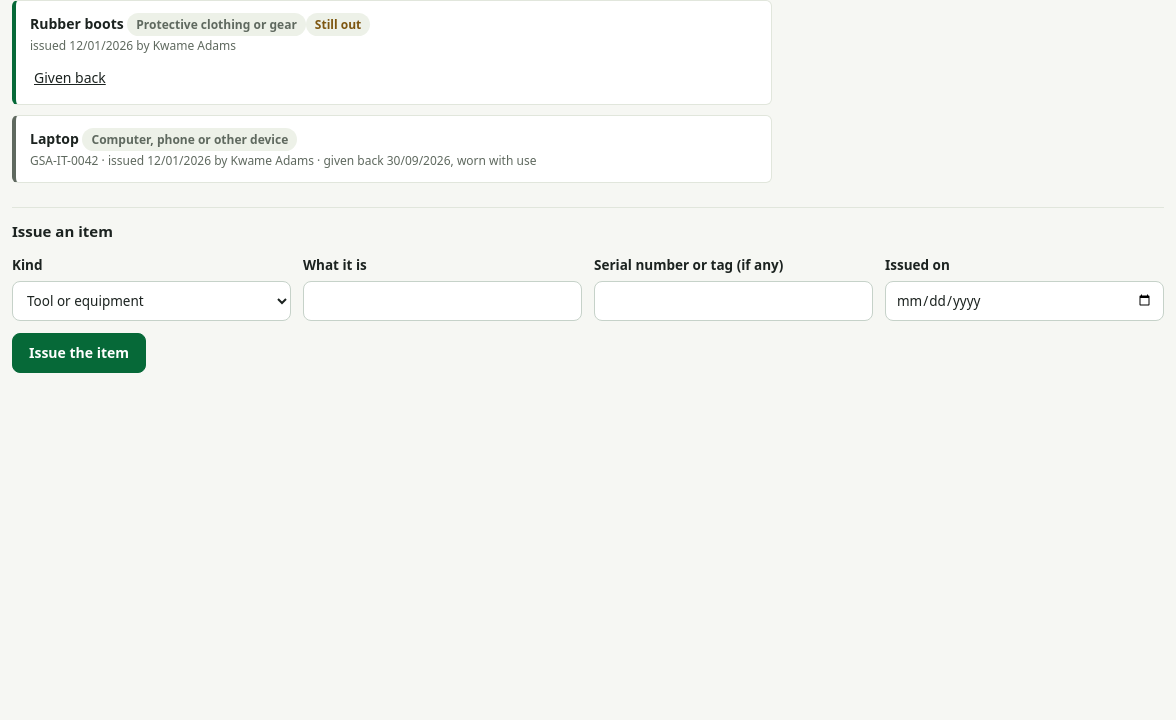
items issued › lists what is still out first, issues an item and records one given back
Expected: the text "Still out" is shown, [306, 13, 370, 36]
Expected: the text "GSA-IT-0042 · issued 12/01/2026 by Kwame Adams · given back 30/09/2026, worn with use" is shown, [30, 152, 536, 169]
Select "Key" in the dropdown labelled "Kind" at [152, 301], box [12, 281, 291, 321]
Type "Key to the store" into the field labelled "What it is" at [442, 301], box [303, 281, 582, 321]
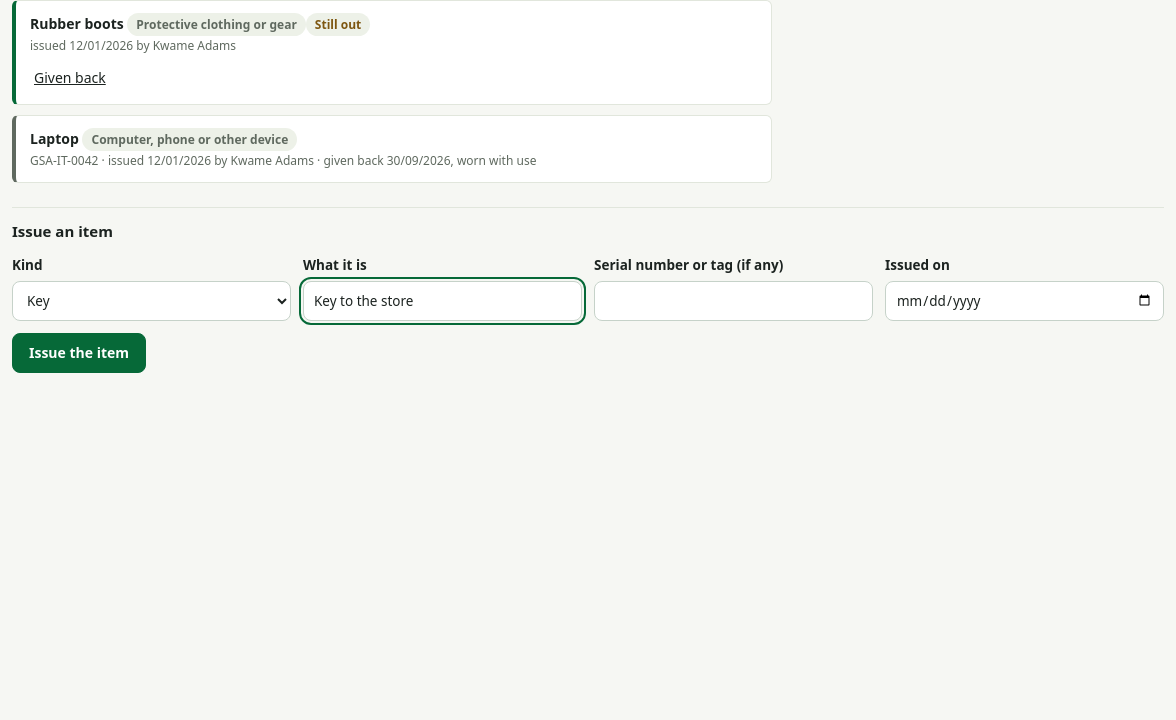
Type "2026-10-01" into the date field labelled "Issued on" at [1024, 301], box [885, 281, 1164, 321]
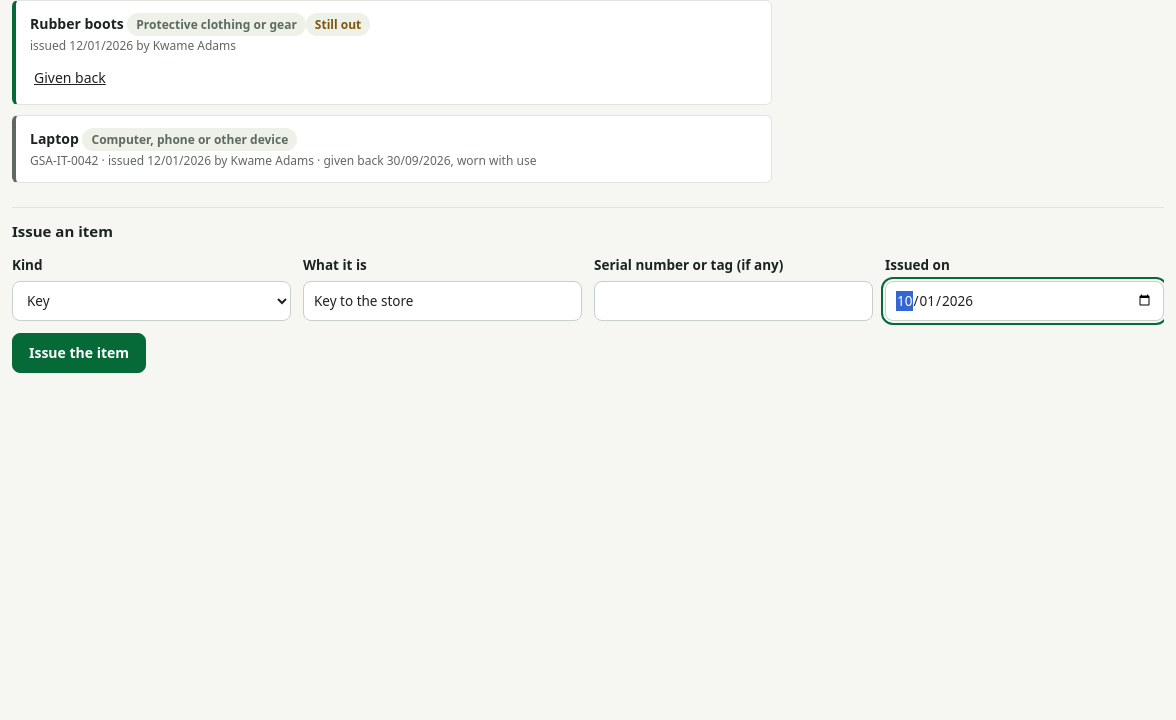
Click the button "Issue the item" at [79, 353], box [12, 333, 146, 373]
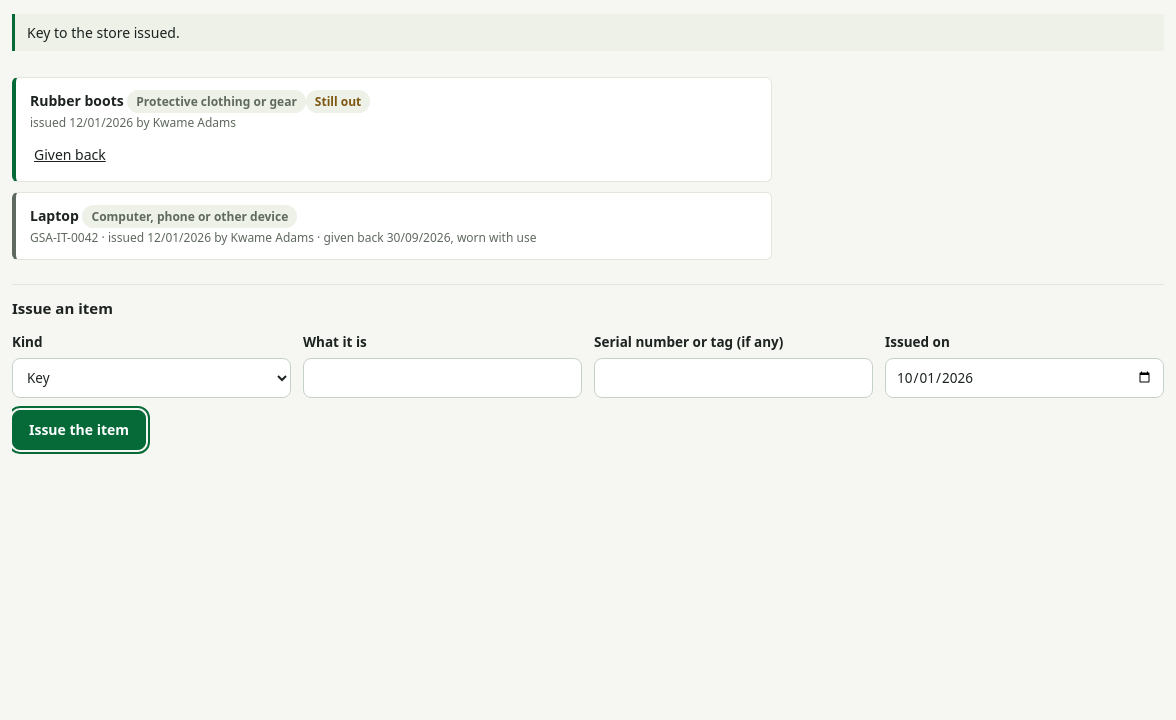
Expected: the message reads "Key to the store issued.", [27, 23, 180, 42]
Click the button with aria-label "Record Rubber boots as given back" at [70, 154], box [30, 140, 110, 169]
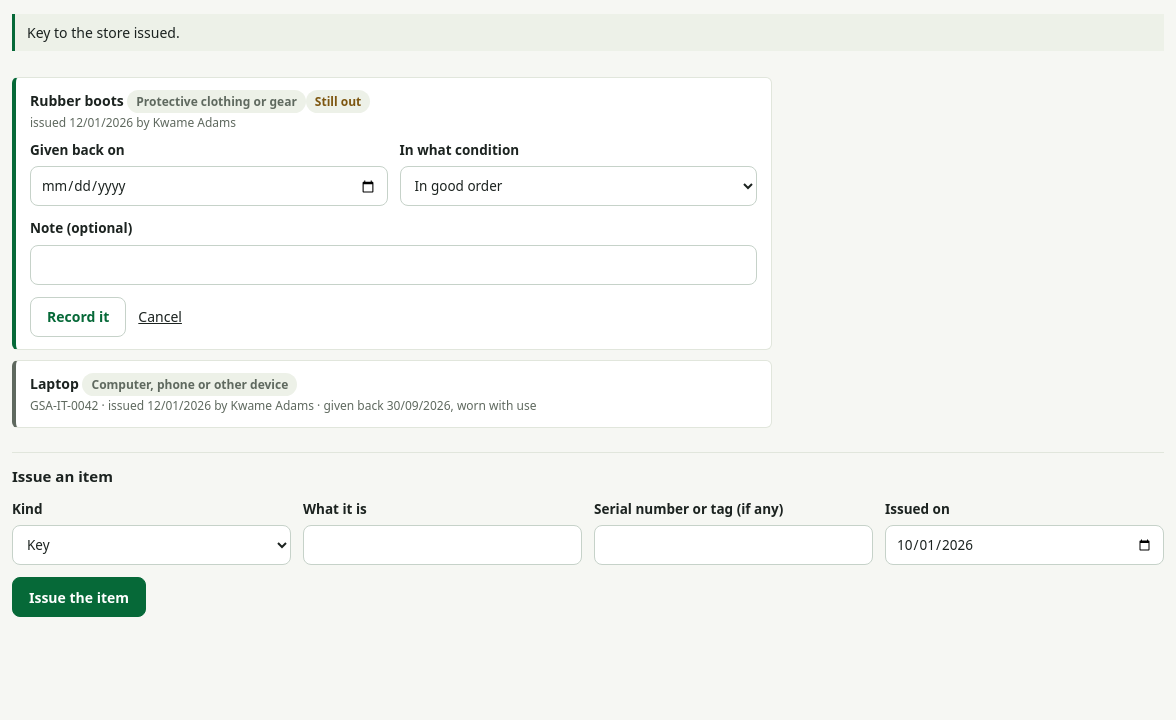
Type "2026-10-01" into the date field labelled "Given back on" at [209, 186], box [30, 166, 388, 206]
Select "Lost" in the dropdown labelled "In what condition" at [578, 186], box [400, 166, 757, 206]
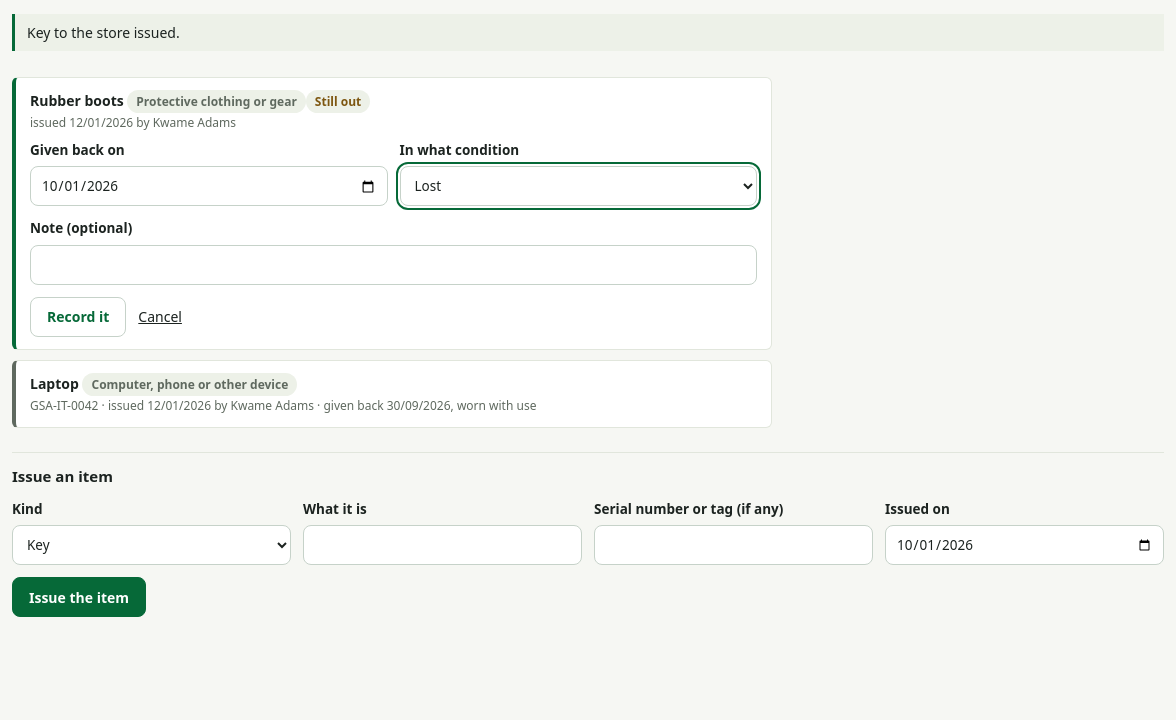
Click the button "Record it" at [78, 316], box [30, 296, 126, 336]
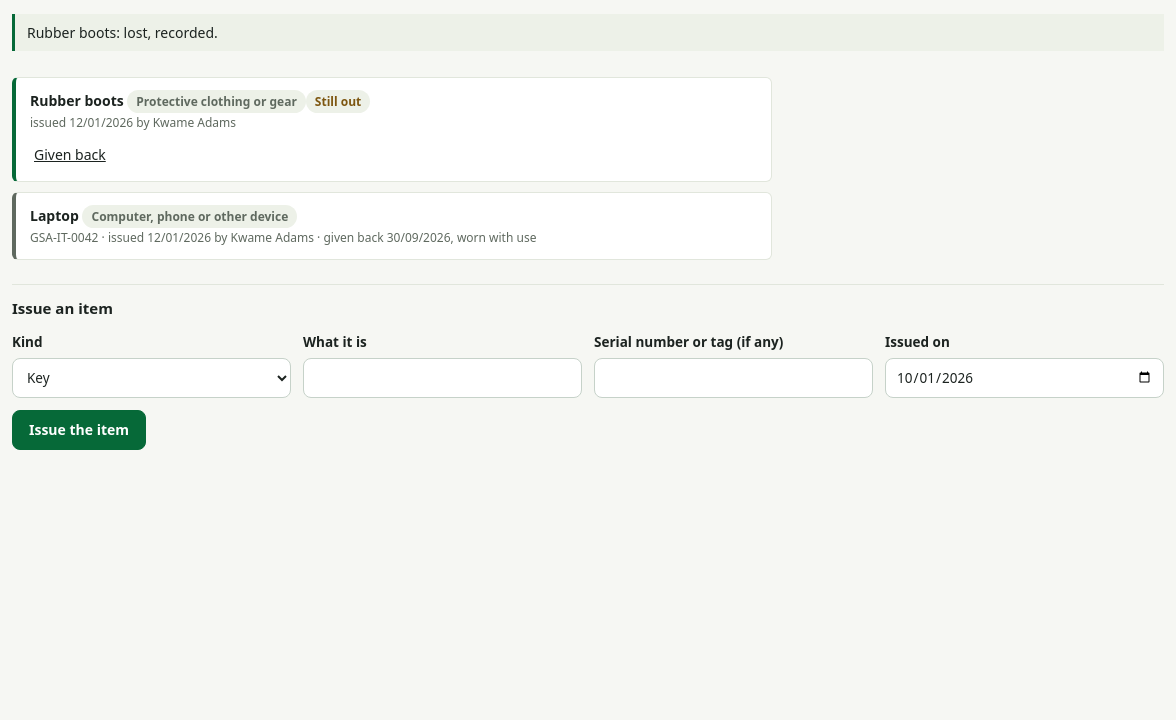
Expected: the text "Rubber boots: lost, recorded." is shown, [12, 14, 1164, 51]
